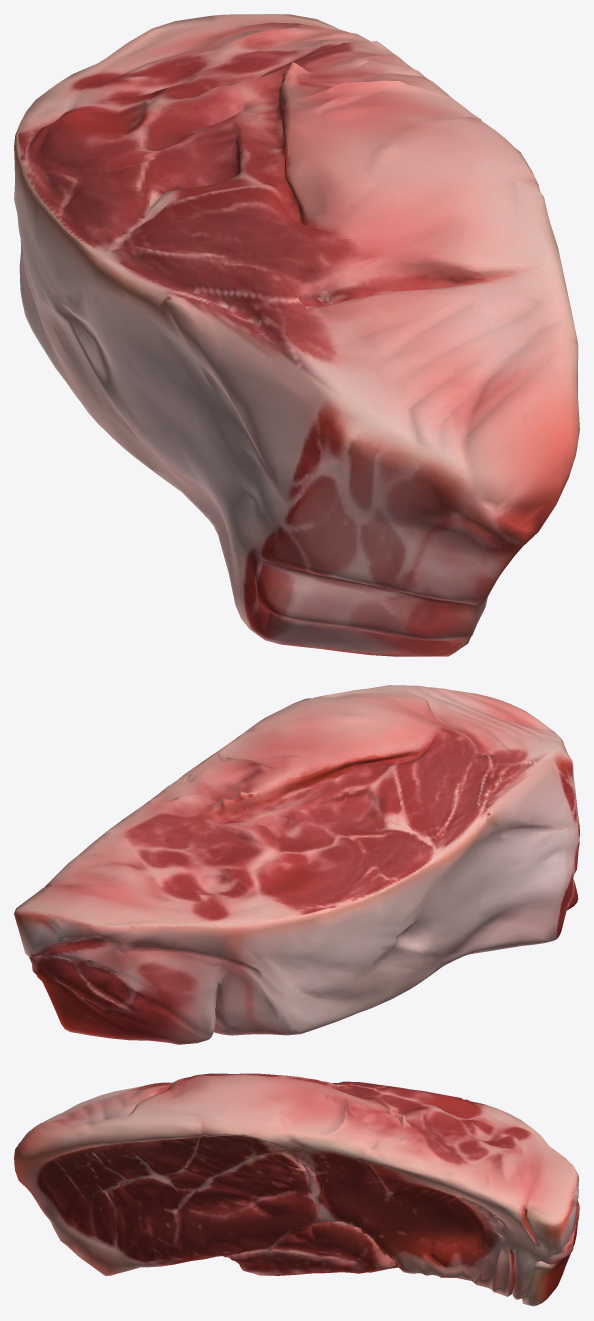
File: steak_cru.glb
The picture shows the model from 3 angles, top to bottom: view 1: azimuth 30°, elevation 25°; view 2: azimuth 150°, elevation 25°; view 3: azimuth 270°, elevation 25°; orthographic projection. The views are drawn at different scales.
Visible parts, largest first — view 1: tripo_part_0, tripo_part_2; view 2: tripo_part_0, tripo_part_4, tripo_part_2; view 3: tripo_part_0, tripo_part_1, tripo_part_2, tripo_part_4, tripo_part_3.
Boxes of the visible parts, x1,y1,x2,y2 form: tripo_part_0: (14, 14, 579, 656); tripo_part_2: (284, 57, 444, 94); tripo_part_0: (14, 685, 579, 1035); tripo_part_4: (32, 950, 225, 1044); tripo_part_2: (163, 753, 284, 811); tripo_part_0: (14, 1073, 579, 1298); tripo_part_1: (227, 1221, 398, 1275); tripo_part_2: (327, 1098, 412, 1153); tripo_part_4: (514, 1222, 577, 1306); tripo_part_3: (461, 1197, 503, 1236).
Bounding box in the file's own units: 0.5122 × 0.4057 × 0.9805.
1 material, 1 textured.
